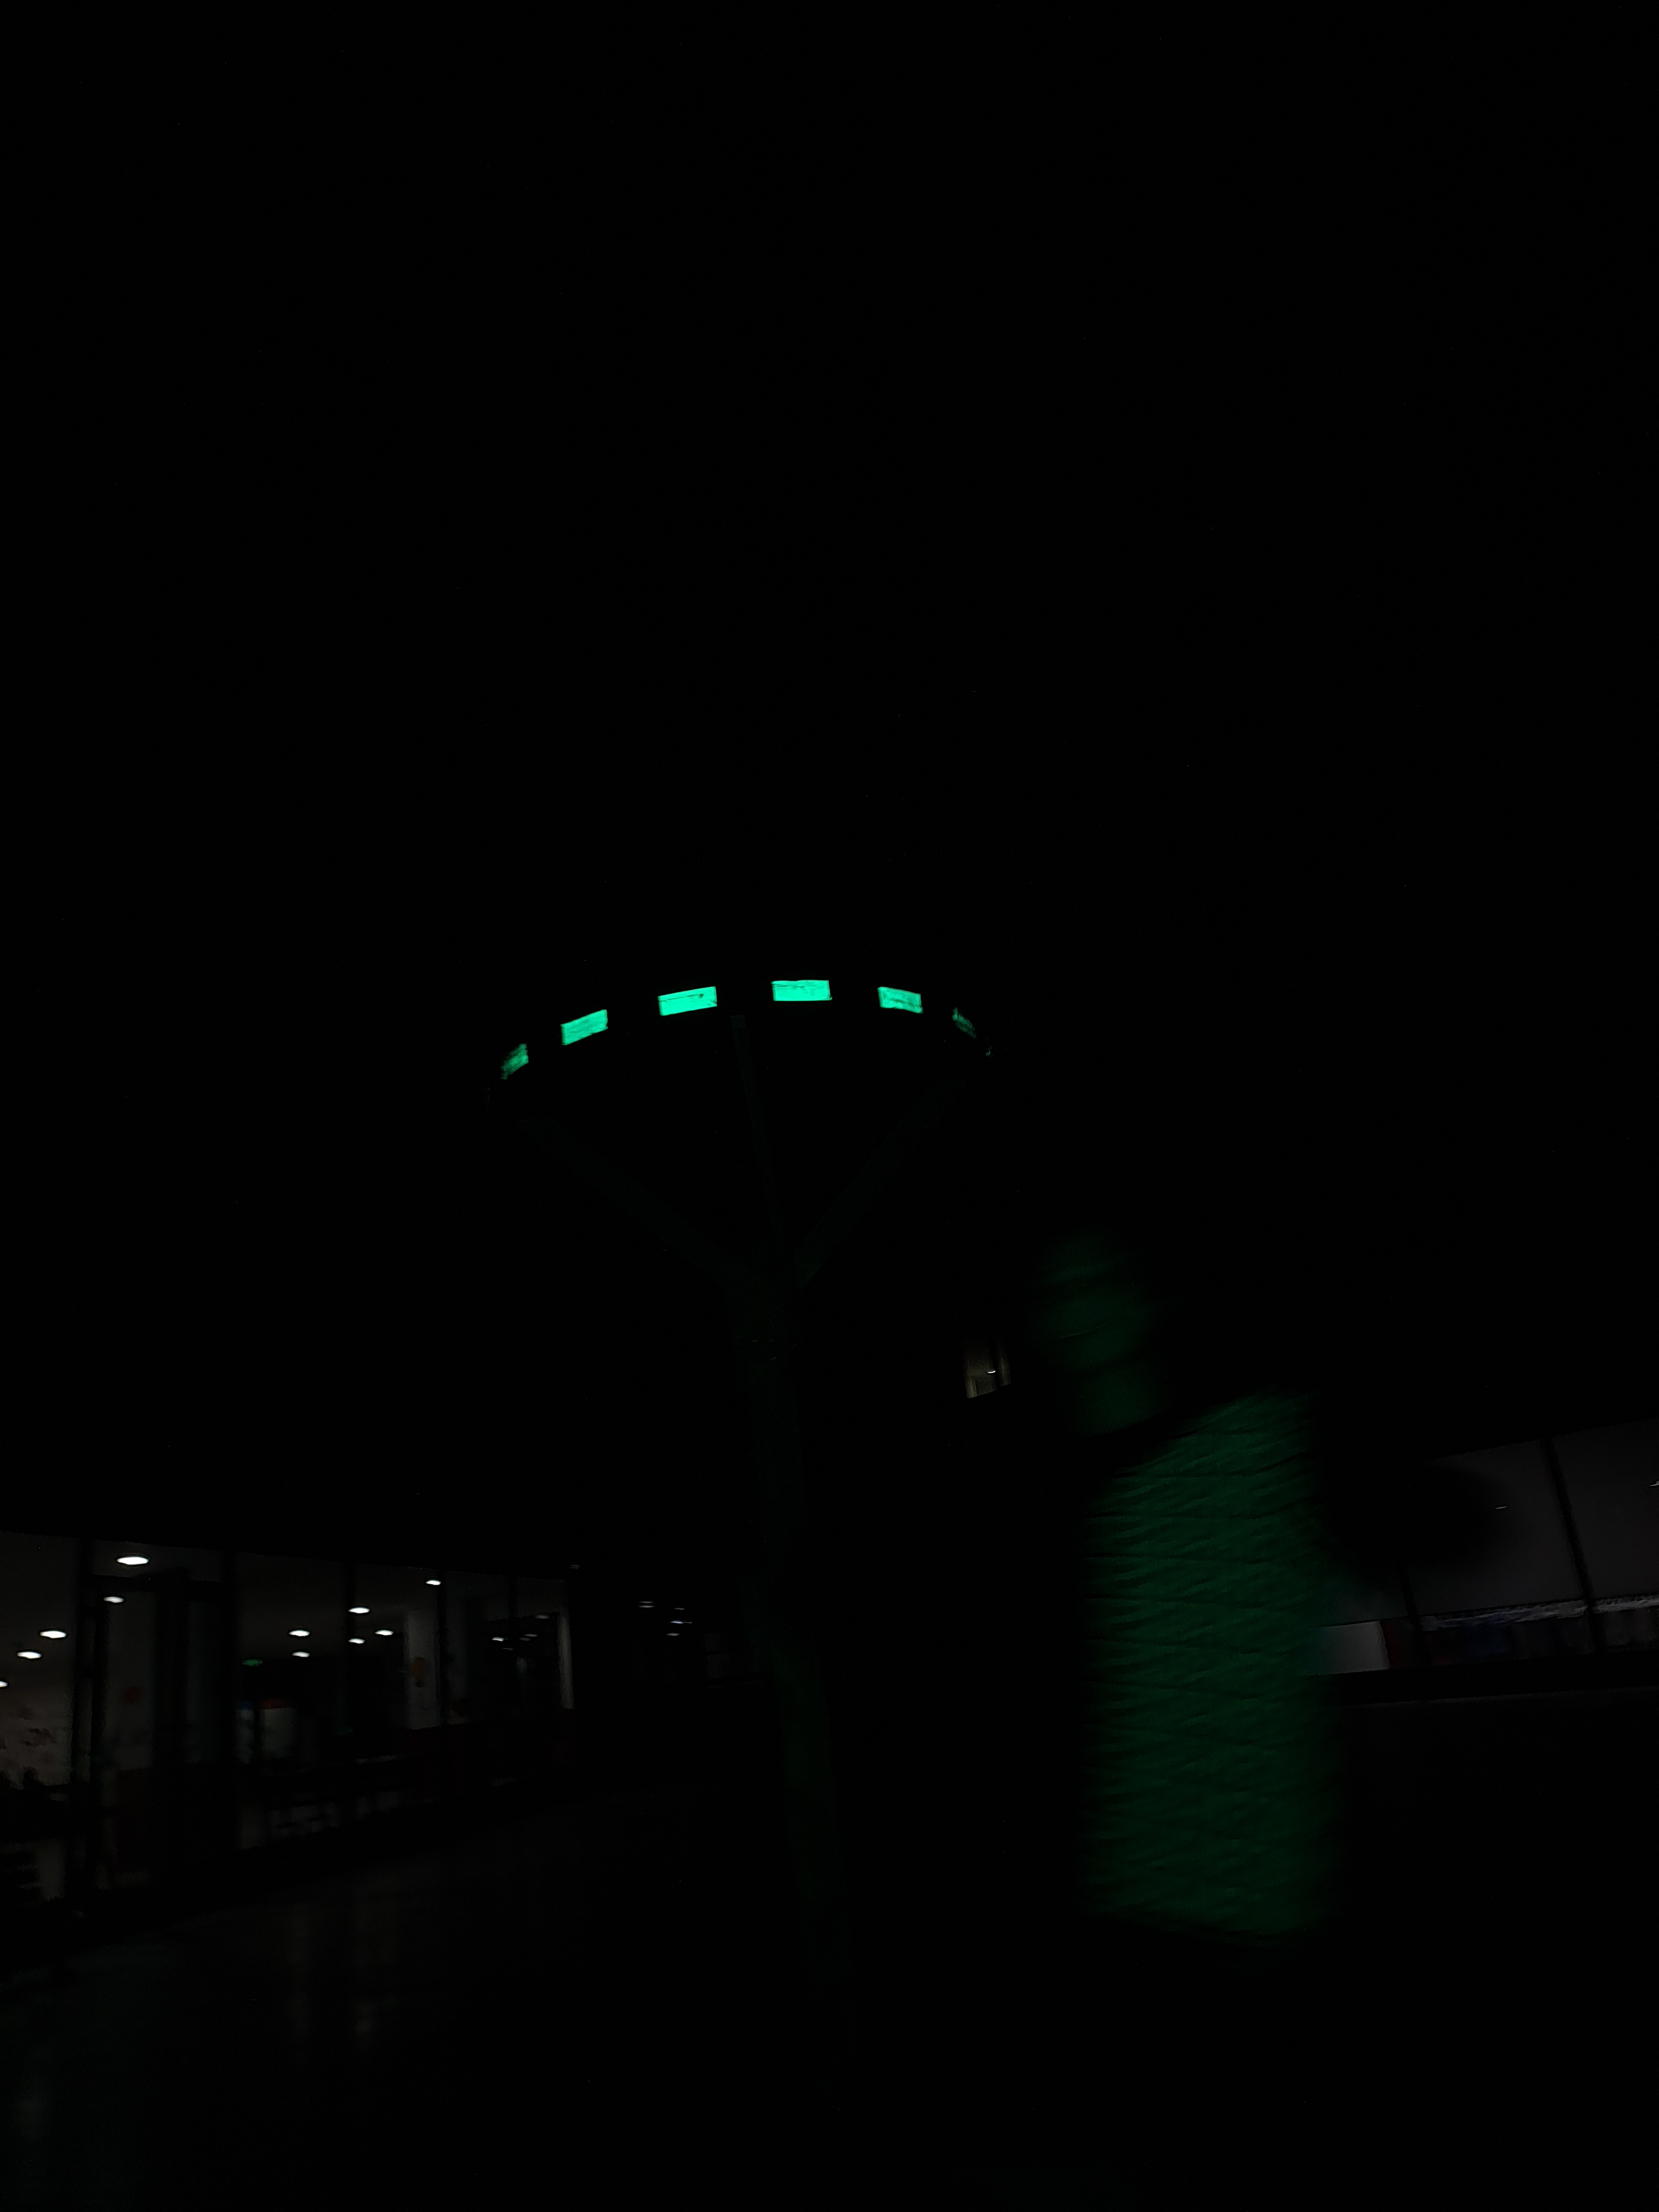hoop: (479, 974, 929, 1096)
